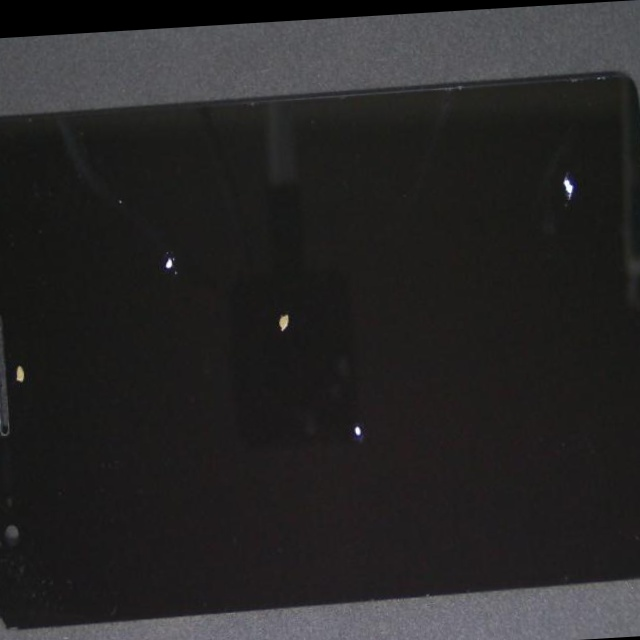stain: (163, 184, 569, 610), (122, 129, 465, 442), (214, 79, 640, 327), (62, 119, 291, 357), (0, 172, 57, 523)
